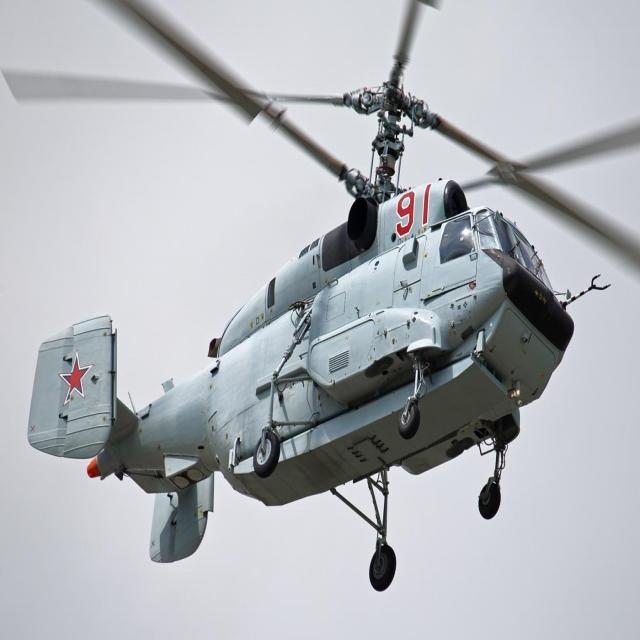MIL_HELO: (3, 7, 640, 590)
